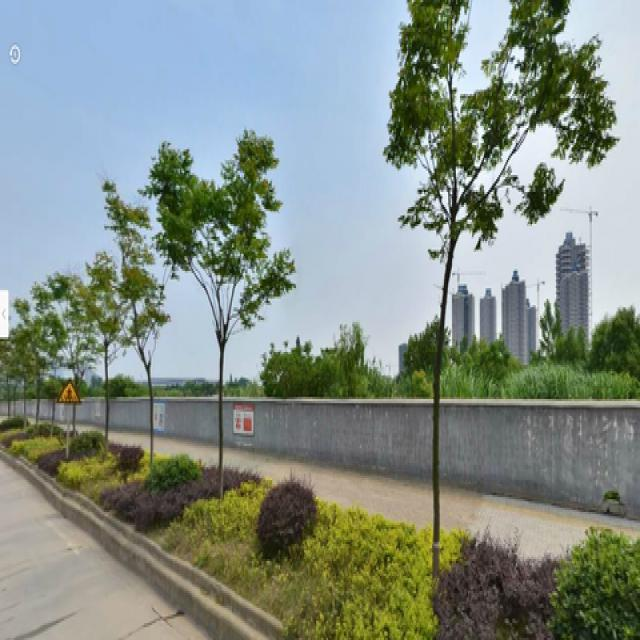koel: (150, 137, 286, 497)
